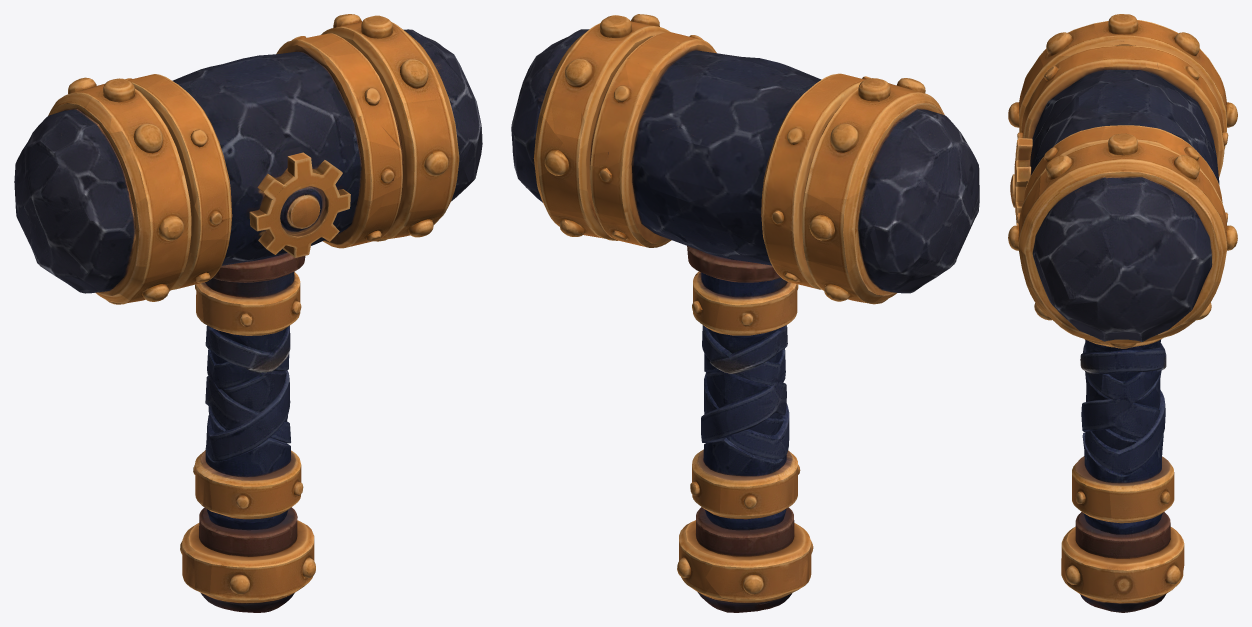
Rendered from hammer.glb.
3 renders of one model, left to right at view 1: azimuth 30°, elevation 25°; view 2: azimuth 150°, elevation 25°; view 3: azimuth 270°, elevation 25°, orthographic. The views are drawn at different scales.
Parts seen in each view (by area): view 1: Mesh_0; view 2: Mesh_0; view 3: Mesh_0.
Boxes of the visible parts, x1,y1,x2,y2 form: Mesh_0: [14, 14, 482, 612]; Mesh_0: [511, 14, 979, 612]; Mesh_0: [1008, 14, 1237, 612].
Bounding box in the file's own units: 1.56 × 1.9 × 0.7558.
Materials: 1 (1 with a texture image).
